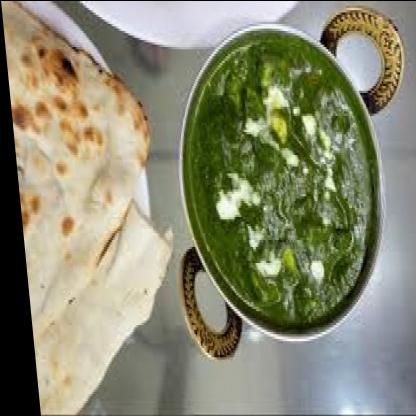palak_paneer: (174, 28, 385, 328)
